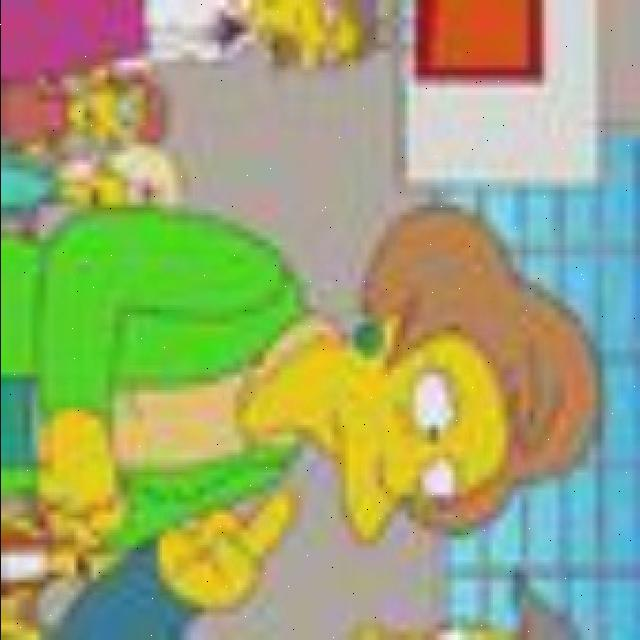Edna Krappel: (274, 201, 600, 549)
